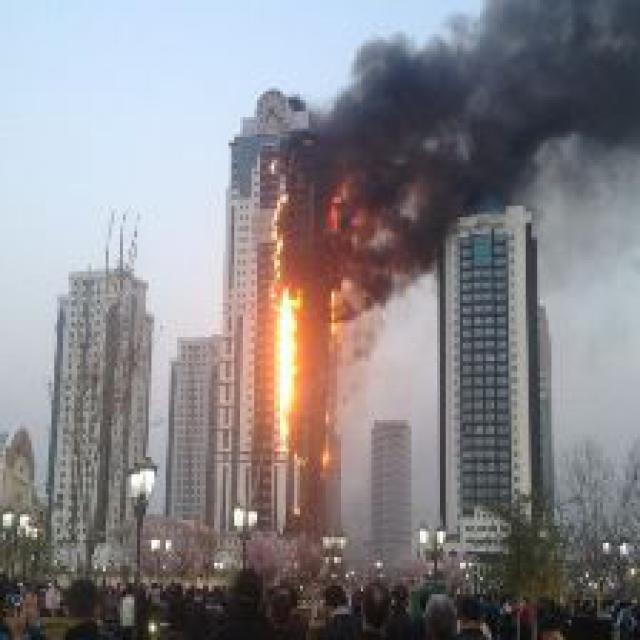fire: (260, 186, 346, 463)
